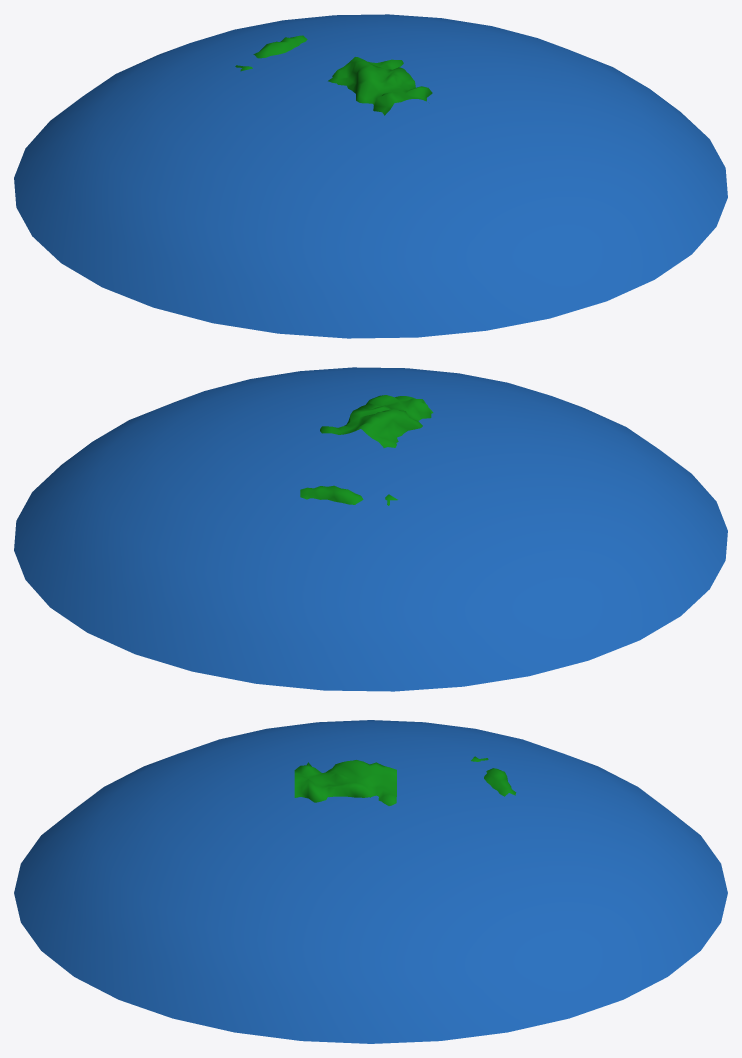
The model's file is background_earth.obj.
3 views of the same model, one above another, from view 1: azimuth 30°, elevation 25°; view 2: azimuth 150°, elevation 25°; view 3: azimuth 270°, elevation 25° (orthographic).
Visible parts, largest first — view 1: 球, 平面, 平面.001; view 2: 球, 平面, 平面.001; view 3: 球, 平面, 平面.001.
Boxes of the visible parts, x1,y1,x2,y2 form: 球: (14,14,727,338); 平面: (328,57,432,115); 平面.001: (235,35,307,71); 球: (14,367,727,691); 平面: (320,395,433,447); 平面.001: (300,485,397,505); 球: (14,720,727,1043); 平面: (294,760,396,805); 平面.001: (471,756,516,796).
Bounding box in the file's own units: 972 × 190 × 972.
